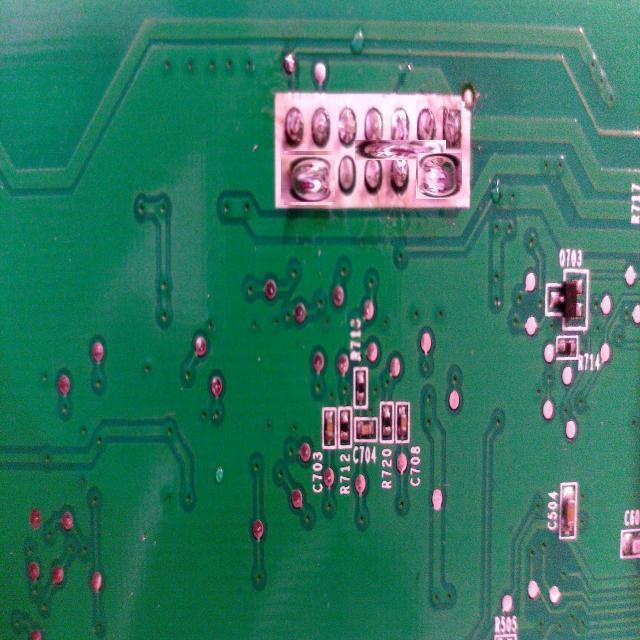Short_circuit: (372, 122, 428, 178), (282, 152, 334, 204), (416, 153, 462, 200)
